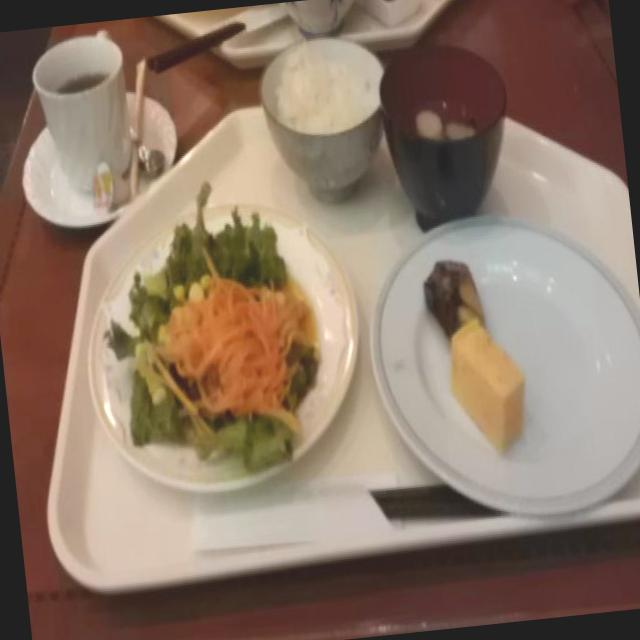Rice: (265, 29, 376, 151)
